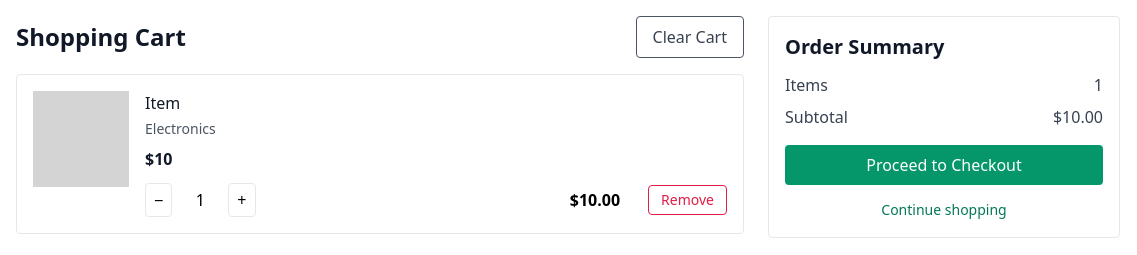
Test: Cart totals › updates quantity and subtotal
expect the text "$10.00" in the row of "Subtotal" is shown: met, box [1053,105,1103,129]
Note: Increase quantity (assumes the first row buttons change the only item)
What coordinates should you click on to do the following:
click the button titled "Increase"
I would click on:
 (242, 200)
Its box is [228,183,256,217].
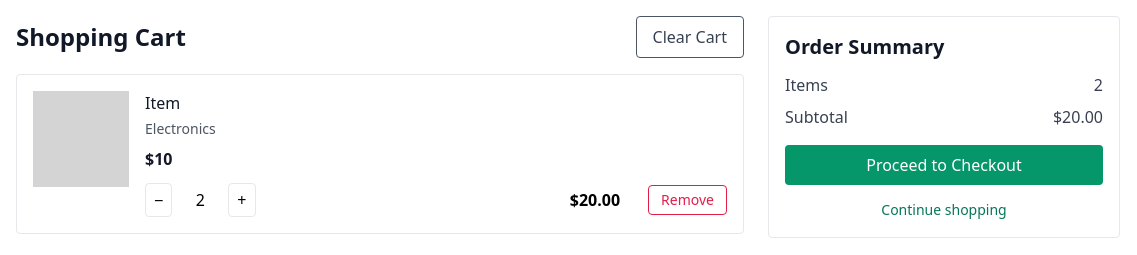
expect the text "$20.00" in the row of "Subtotal" is shown: met, box [1053,105,1103,129]
Note: Decrease back to 1
What coordinates should you click on to do the following:
click the button titled "Decrease"
I would click on:
 (159, 200)
Its box is [145,183,172,217].
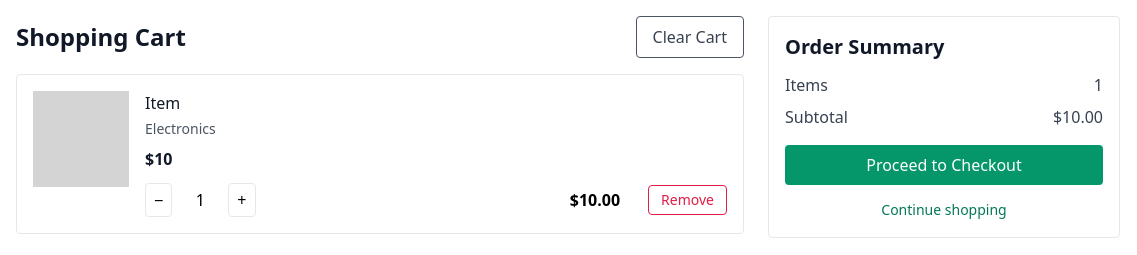
expect the text "$10.00" in the row of "Subtotal" is shown: met, box [1053,105,1103,129]
